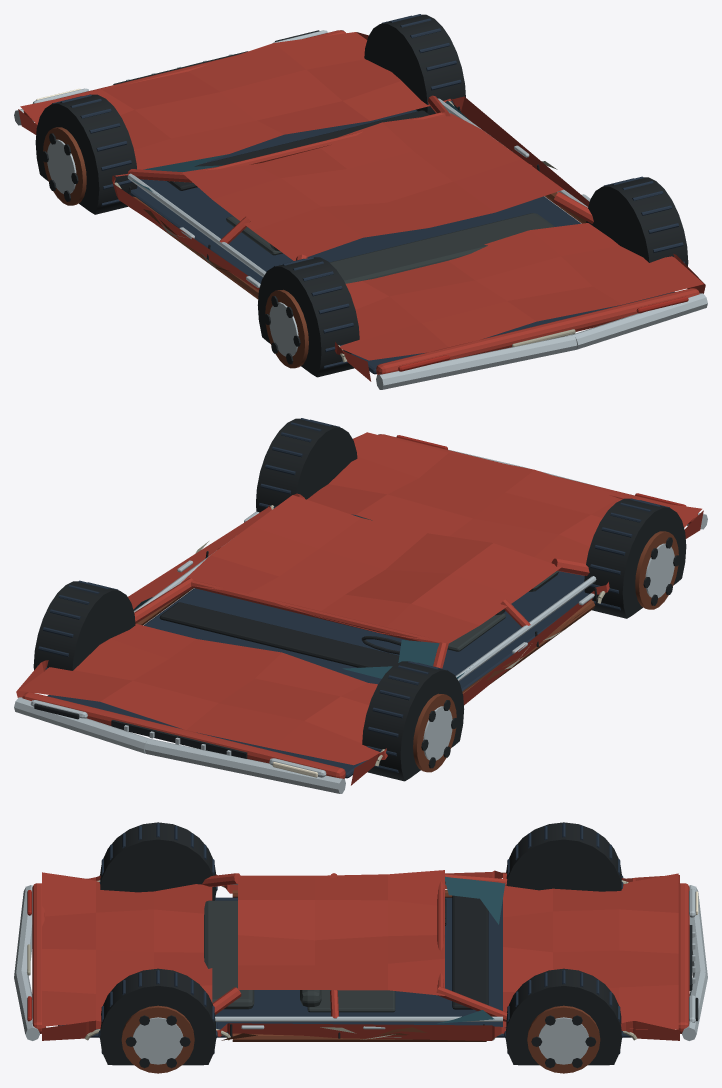
File: crush_car_folded.glb
The picture shows the model from 3 angles, top to bottom: view 1: azimuth 30°, elevation 25°; view 2: azimuth 150°, elevation 25°; view 3: azimuth 270°, elevation 25°; orthographic projection. The views are drawn at different scales.
Visible parts, largest first — view 1: Wreck_Salvage oxblood.001, Wreck_Rubber, Wreck_Truss steel, Wreck_Bare alloy, Wreck_Torn charcoal upholstery.001, Wreck_Exposed rust.001, Wreck_Wreck glass, Wreck_Cracked tail lens.001; view 2: Wreck_Salvage oxblood.001, Wreck_Rubber, Wreck_Truss steel, Wreck_Bare alloy, Wreck_Exposed rust.001, Wreck_Wreck glass, Wreck_Torn charcoal upholstery.001; view 3: Wreck_Salvage oxblood.001, Wreck_Rubber, Wreck_Bare alloy, Wreck_Truss steel, Wreck_Torn charcoal upholstery.001, Wreck_Exposed rust.001, Wreck_Wreck glass, Wreck_Scraped primer.001.
Boxes of the visible parts, x1,y1,x2,y2 form: Wreck_Salvage oxblood.001: (18, 30, 705, 381); Wreck_Rubber: (35, 14, 688, 377); Wreck_Truss steel: (52, 14, 684, 374); Wreck_Bare alloy: (14, 30, 707, 389); Wreck_Torn charcoal upholstery.001: (226, 213, 554, 283); Wreck_Exposed rust.001: (43, 127, 586, 368); Wreck_Wreck glass: (132, 100, 468, 194); Wreck_Cracked tail lens.001: (398, 296, 688, 371); Wreck_Salvage oxblood.001: (16, 432, 703, 785); Wreck_Rubber: (33, 418, 686, 781); Wreck_Truss steel: (37, 418, 669, 778); Wreck_Bare alloy: (14, 434, 707, 793); Wreck_Exposed rust.001: (136, 531, 678, 772); Wreck_Wreck glass: (133, 597, 469, 678); Wreck_Torn charcoal upholstery.001: (355, 515, 558, 651); Wreck_Salvage oxblood.001: (32, 870, 689, 1040); Wreck_Rubber: (100, 822, 698, 1068); Wreck_Bare alloy: (14, 883, 707, 1064); Wreck_Truss steel: (58, 823, 631, 1054); Wreck_Torn charcoal upholstery.001: (204, 900, 395, 1012); Wreck_Exposed rust.001: (121, 890, 600, 1073); Wreck_Wreck glass: (437, 876, 505, 1023); Wreck_Scraped primer.001: (27, 880, 636, 1040).
Bounding box in the file's own units: 2.99 × 0.709 × 5.13.
